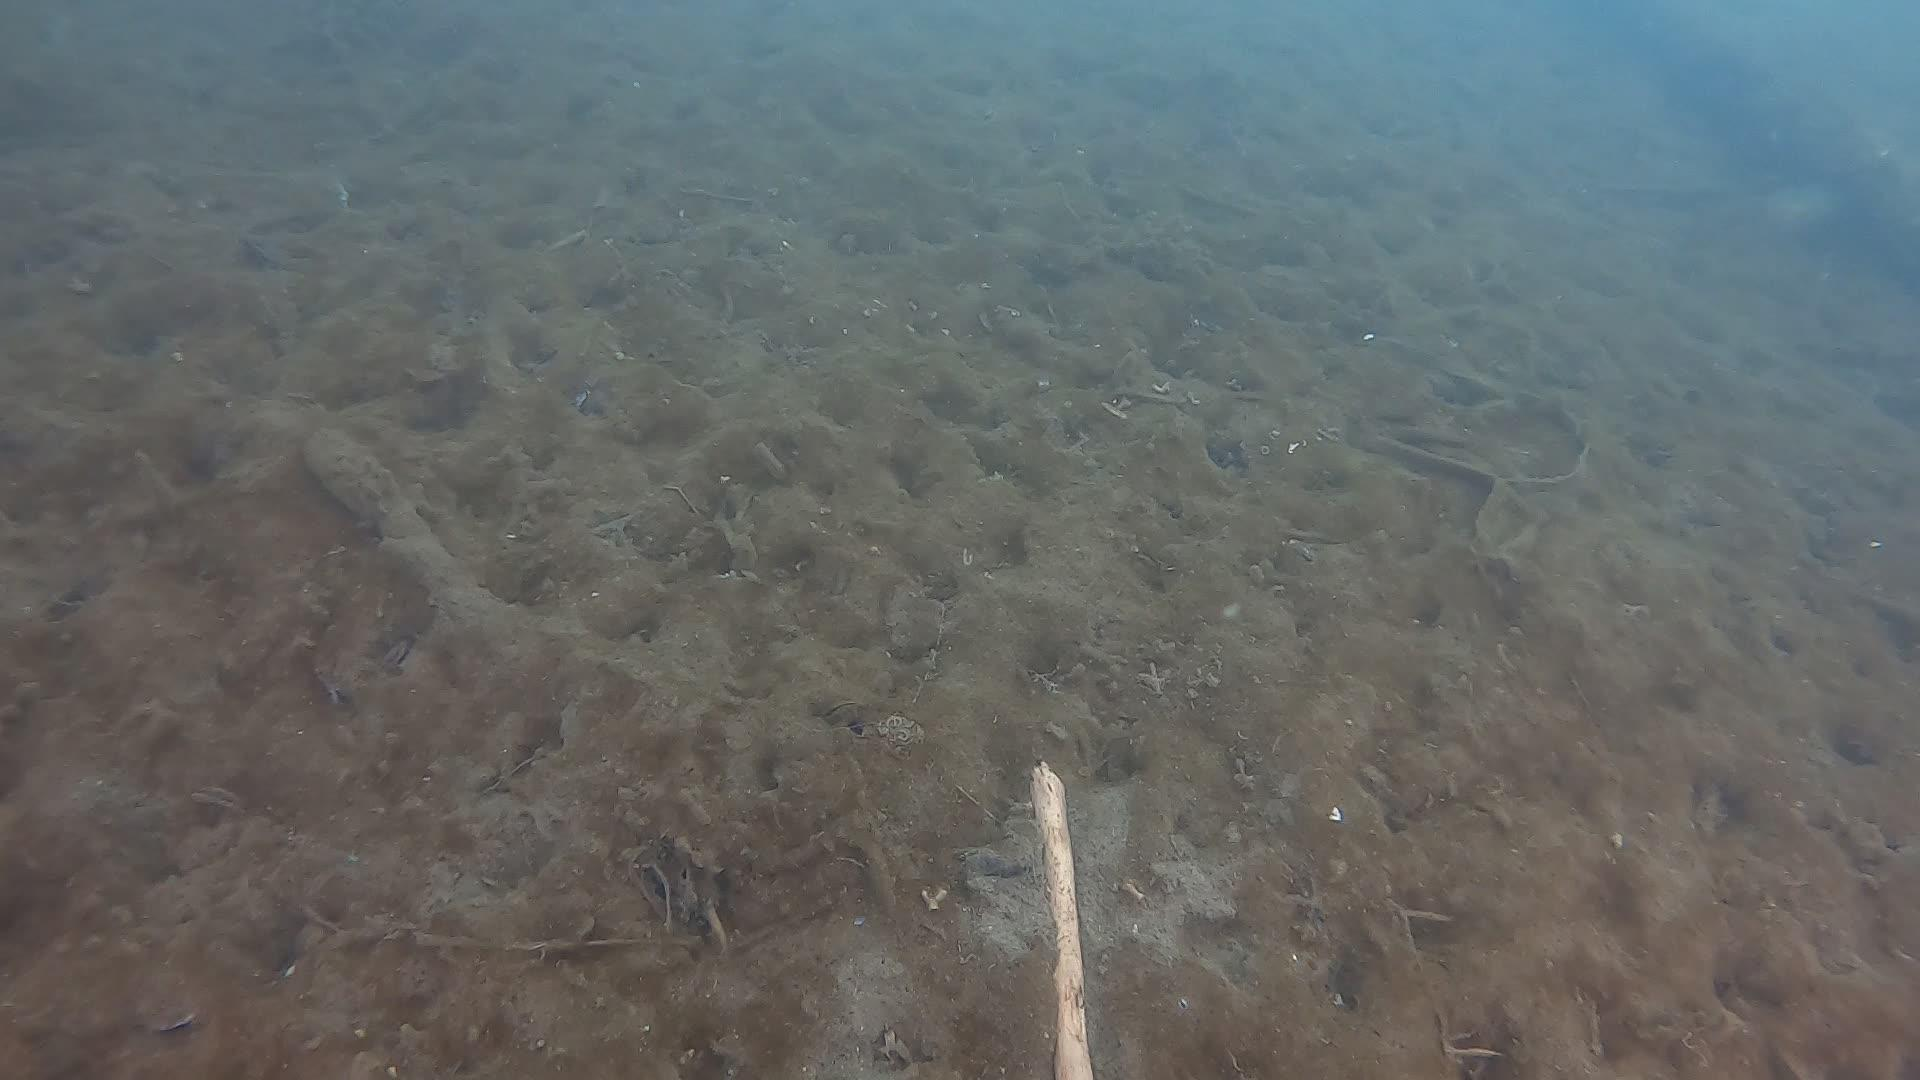wood: (1025, 756, 1088, 1080)
